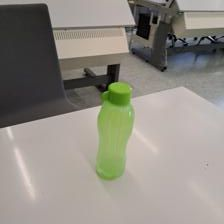bottle: (93, 81, 134, 179)
